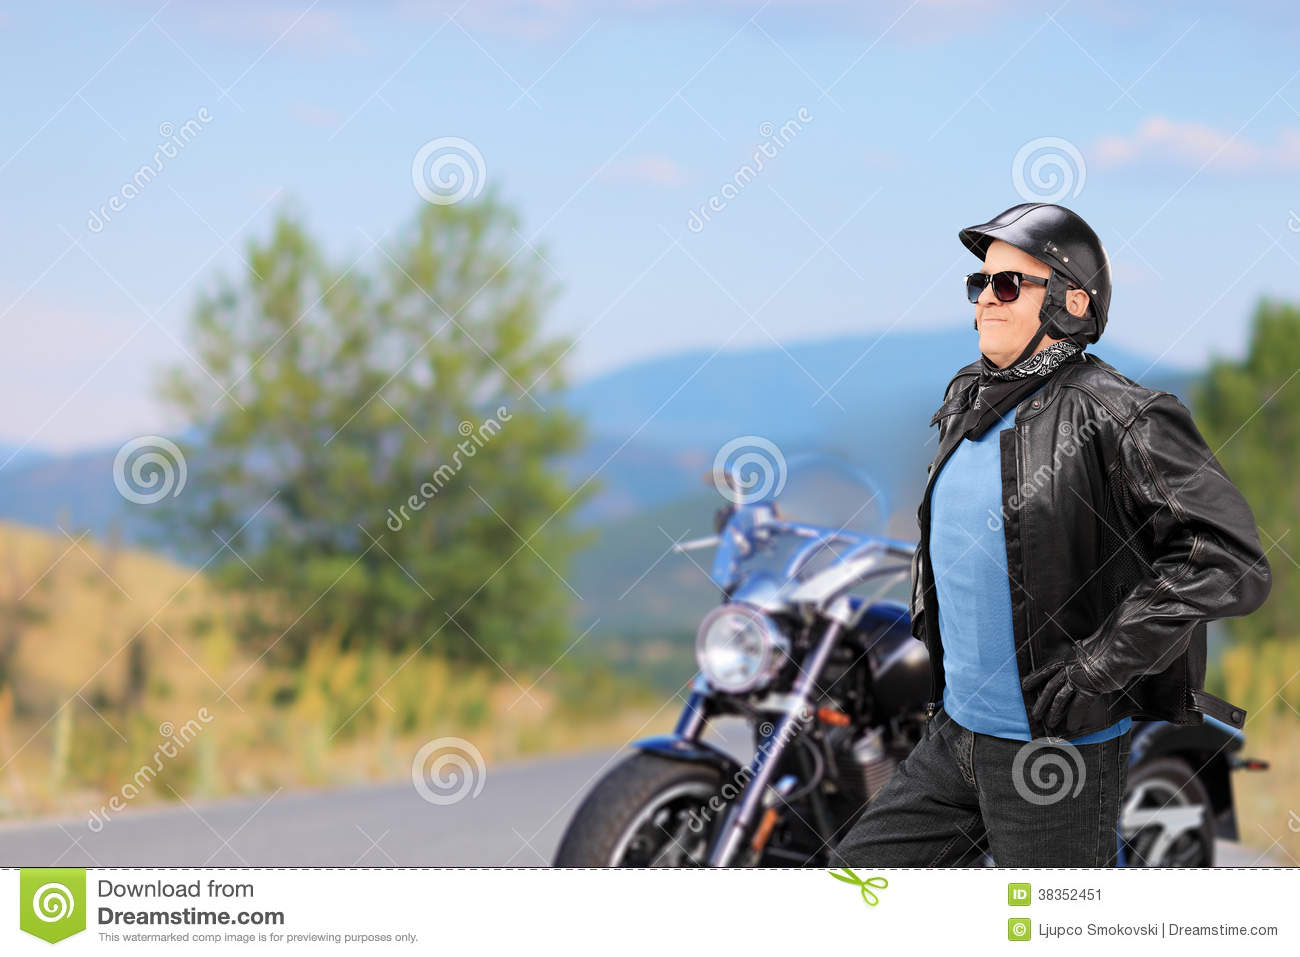helmet: (973, 189, 1121, 324)
